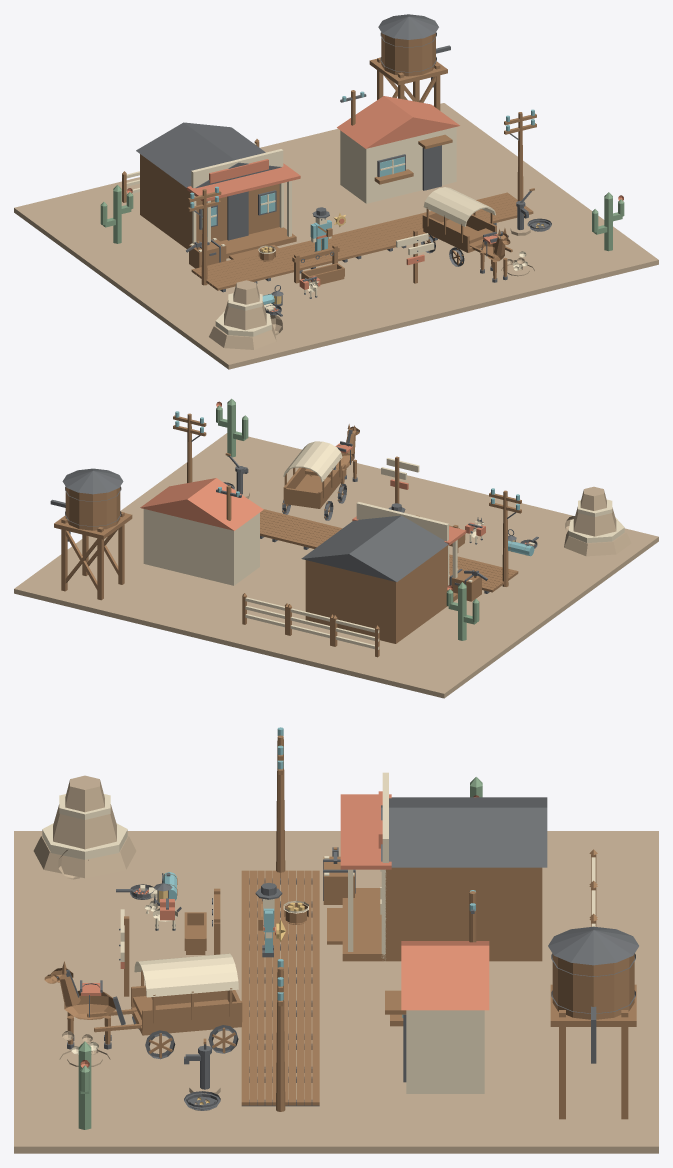
File: frontier-post-starter-scene__250.glb
3 views of the same model, one above another, from view 1: azimuth 30°, elevation 25°; view 2: azimuth 150°, elevation 25°; view 3: azimuth 270°, elevation 25° (orthographic). The views are drawn at different scales.
Visible parts, largest first — view 1: terrain-base, 01-frontier-post-trading-store/0, 01-frontier-post-trading-store/1, 02-frontier-post-telegraph-office/0, 02-frontier-post-telegraph-office/1, 03-frontier-post-water-tower/0, 18-frontier-post-sandstone-outcrop/0, 01-frontier-post-trading-store/3, 11-frontier-post-covered-wagon/0, 01-frontier-post-trading-store/2, 03-frontier-post-water-tower/1, 11-frontier-post-covered-wagon/2 (+16 smaller); view 2: terrain-base, 01-frontier-post-trading-store/0, 02-frontier-post-telegraph-office/0, 01-frontier-post-trading-store/1, 03-frontier-post-water-tower/0, 02-frontier-post-telegraph-office/1, 18-frontier-post-sandstone-outcrop/0, 11-frontier-post-covered-wagon/0, 03-frontier-post-water-tower/1, 01-frontier-post-trading-store/2, 08-frontier-post-boardwalk/1, 11-frontier-post-covered-wagon/2 (+12 smaller); view 3: terrain-base, 01-frontier-post-trading-store/0, 01-frontier-post-trading-store/1, 03-frontier-post-water-tower/0, 02-frontier-post-telegraph-office/0, 02-frontier-post-telegraph-office/1, 18-frontier-post-sandstone-outcrop/0, 11-frontier-post-covered-wagon/0, 11-frontier-post-covered-wagon/2, 03-frontier-post-water-tower/1, 01-frontier-post-trading-store/3, 10-frontier-post-boardwalk/1 (+16 smaller).
Boxes of the visible parts, x1,y1,x2,y2 form: terrain-base: (14,103,658,369); 01-frontier-post-trading-store/0: (140,154,296,259); 01-frontier-post-trading-store/1: (136,122,281,240); 02-frontier-post-telegraph-office/0: (340,127,456,203); 02-frontier-post-telegraph-office/1: (337,96,459,148); 03-frontier-post-water-tower/0: (369,32,447,110); 18-frontier-post-sandstone-outcrop/0: (209,280,282,349); 01-frontier-post-trading-store/3: (187,159,300,201); 11-frontier-post-covered-wagon/0: (422,207,512,264); 01-frontier-post-trading-store/2: (191,149,291,243); 03-frontier-post-water-tower/1: (378,14,450,87); 11-frontier-post-covered-wagon/2: (423,187,495,226); terrain-base: (14,433,658,698); 01-frontier-post-trading-store/0: (305,545,457,643); 02-frontier-post-telegraph-office/0: (143,509,259,585); 01-frontier-post-trading-store/1: (301,515,448,581); 03-frontier-post-water-tower/0: (54,487,132,600); 02-frontier-post-telegraph-office/1: (140,478,263,530); 18-frontier-post-sandstone-outcrop/0: (564,486,631,556); 11-frontier-post-covered-wagon/0: (282,458,345,518); 03-frontier-post-water-tower/1: (50,468,123,541); 01-frontier-post-trading-store/2: (356,502,457,585); 08-frontier-post-boardwalk/1: (267,516,337,548); 11-frontier-post-covered-wagon/2: (283,441,342,482); terrain-base: (14,831,658,1153); 01-frontier-post-trading-store/0: (327,867,542,961); 01-frontier-post-trading-store/1: (381,797,547,867); 03-frontier-post-water-tower/0: (550,954,636,1119); 02-frontier-post-telegraph-office/0: (406,1010,484,1093); 02-frontier-post-telegraph-office/1: (401,941,489,1010); 18-frontier-post-sandstone-outcrop/0: (33,775,136,879); 11-frontier-post-covered-wagon/0: (87,970,242,1058); 11-frontier-post-covered-wagon/2: (134,953,238,997); 03-frontier-post-water-tower/1: (548,926,638,1063); 01-frontier-post-trading-store/3: (340,791,391,869); 10-frontier-post-boardwalk/1: (241,1069,319,1105).
Bounding box in the file's own units: 19.07 × 5.12 × 16.49.
